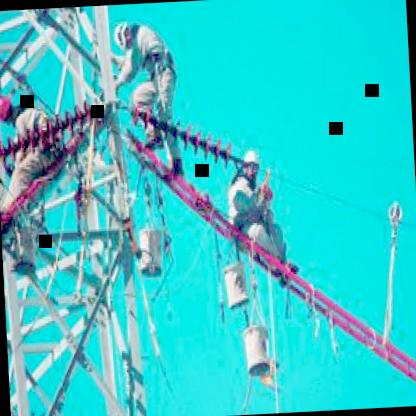helmet: (110, 16, 140, 51), (240, 146, 260, 182), (0, 90, 17, 125)
